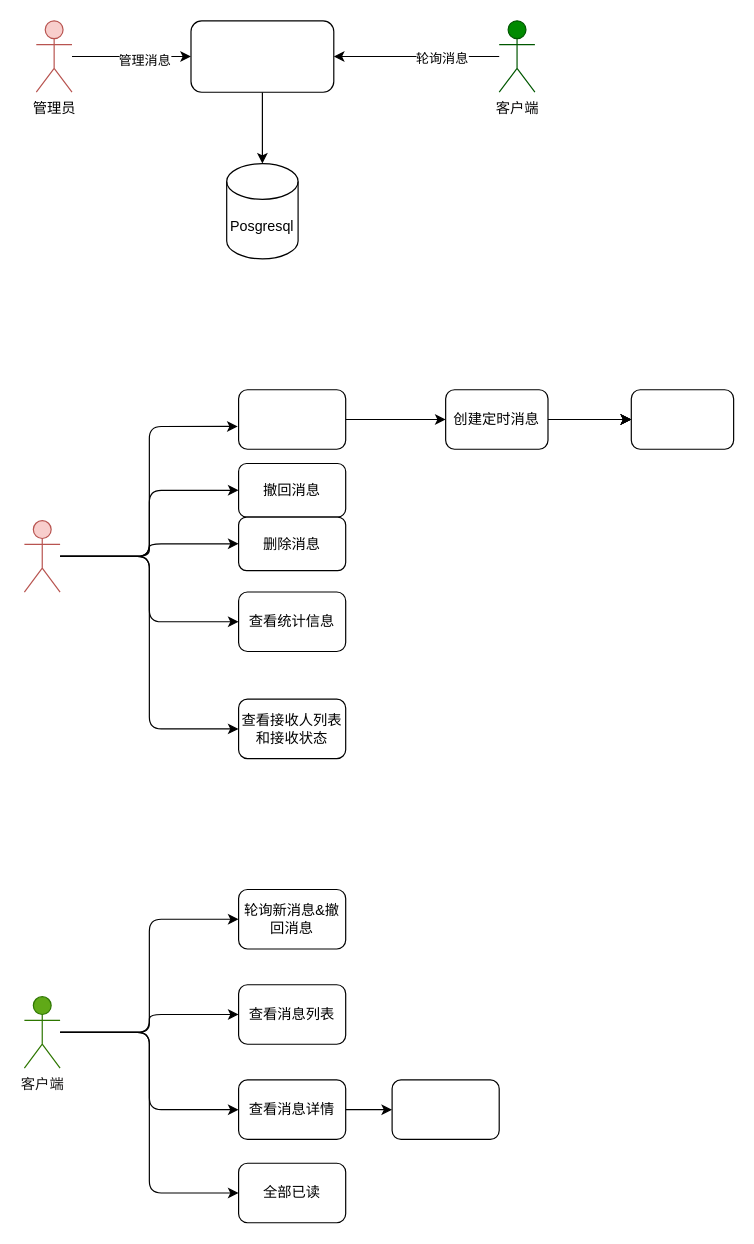
This 754x1244 diagram has some shape labels left out. Here are the shapes that lost their labels. From the top down, the box of each, then its label:
(190, 20, 334, 92): 消息服务
(237, 389, 346, 449): 创建消息
(630, 389, 734, 449): 编辑消息
(23, 519, 60, 592): 管理端
(391, 1079, 499, 1139): 单条已读
